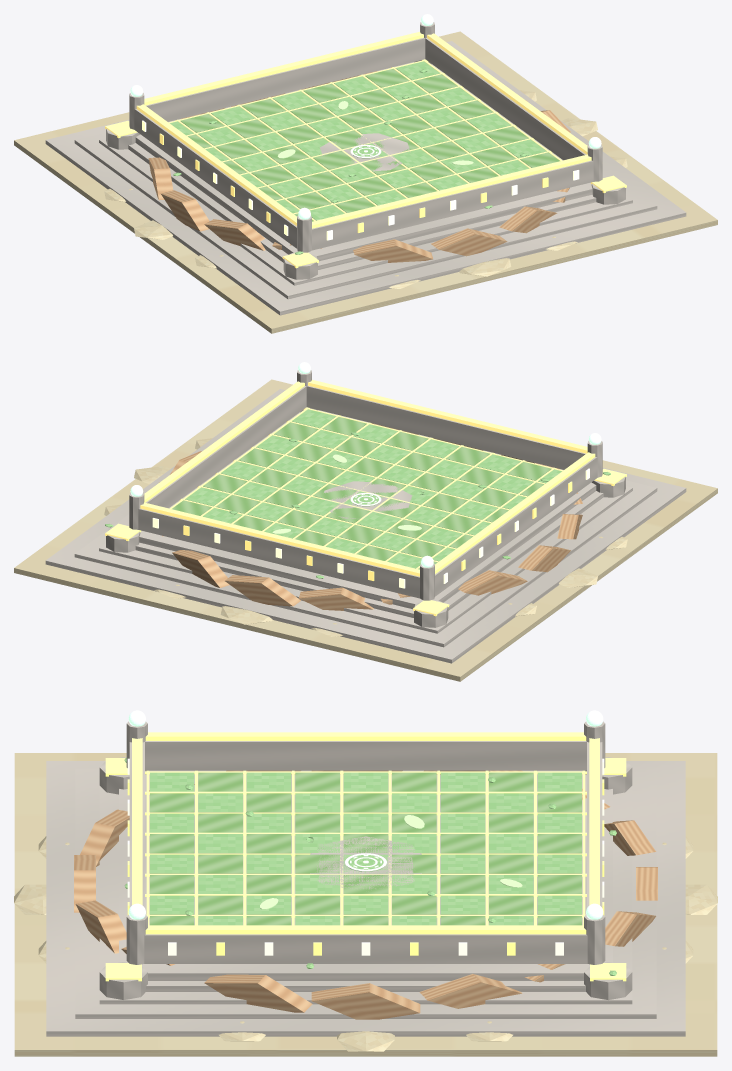
The model's file is arena.glb.
3 renders of one model, top to bottom at view 1: azimuth 30°, elevation 25°; view 2: azimuth 150°, elevation 25°; view 3: azimuth 270°, elevation 25°, orthographic. The views are drawn at different scales.
Parts seen in each view (by area): view 1: Arena_Plinth, Arena_PlaySurface, Arena_Rim; view 2: Arena_Plinth, Arena_PlaySurface, Arena_Rim; view 3: Arena_Plinth, Arena_PlaySurface, Arena_Rim, Arena_CenterPad.
Boxes of the visible parts, bbox=[...] form: Arena_Plinth: bbox=[14, 31, 717, 333]; Arena_PlaySurface: bbox=[168, 59, 561, 254]; Arena_Rim: bbox=[129, 14, 602, 252]; Arena_Plinth: bbox=[14, 379, 717, 681]; Arena_PlaySurface: bbox=[105, 407, 610, 578]; Arena_Rim: bbox=[129, 362, 602, 600]; Arena_Plinth: bbox=[14, 753, 717, 1056]; Arena_PlaySurface: bbox=[124, 757, 616, 975]; Arena_Rim: bbox=[126, 710, 605, 964]; Arena_CenterPad: bbox=[345, 853, 386, 871].
Bounding box in the file's own units: 14.97 × 2.29 × 14.53.
Materials: 13 (8 with a texture image).
